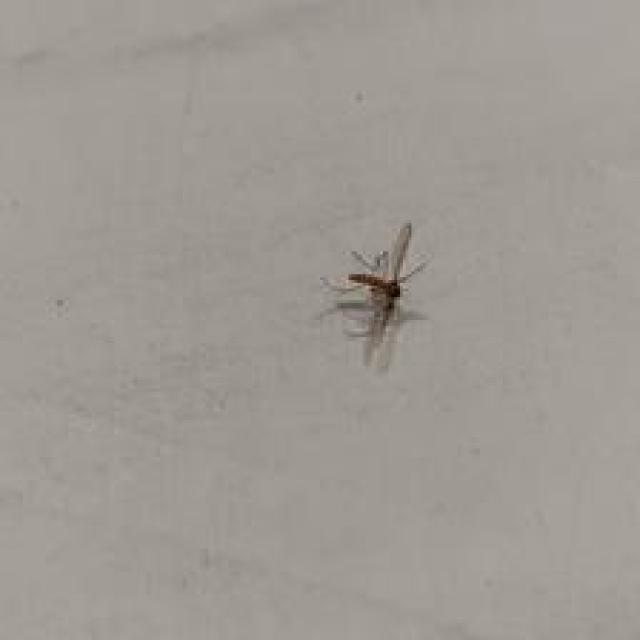Culex: (319, 220, 430, 369)
